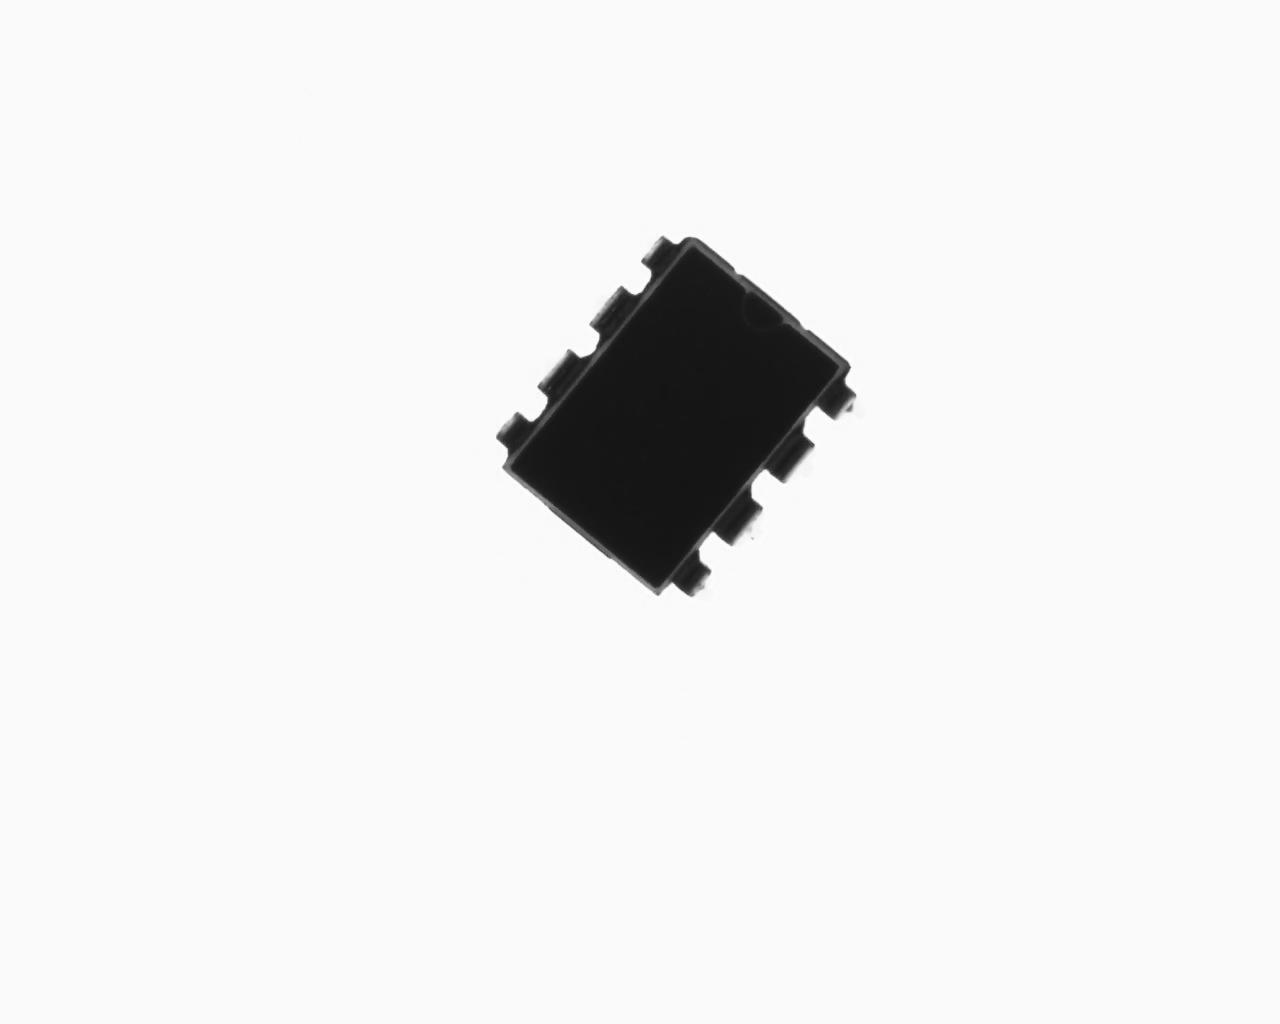Leg: (573, 286, 644, 332), (714, 490, 766, 550), (767, 430, 819, 487), (535, 341, 587, 396), (669, 553, 722, 605), (814, 383, 874, 420), (494, 411, 534, 456), (631, 232, 673, 271)
